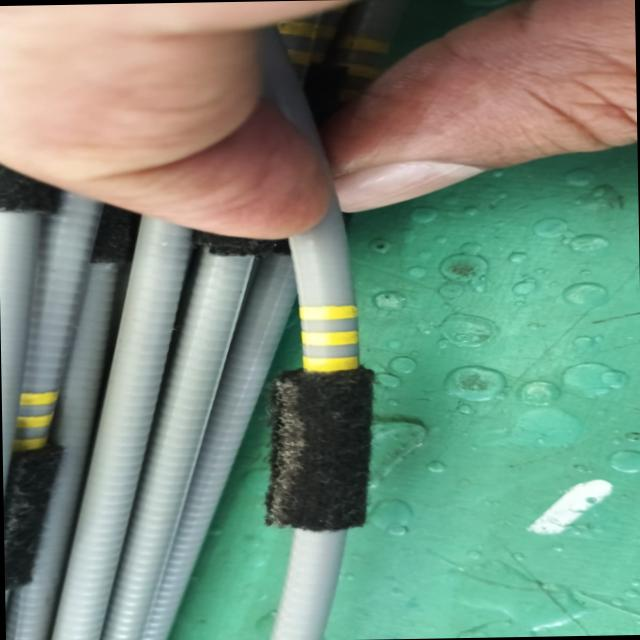yellow: (299, 304, 362, 374), (3, 391, 64, 450)
